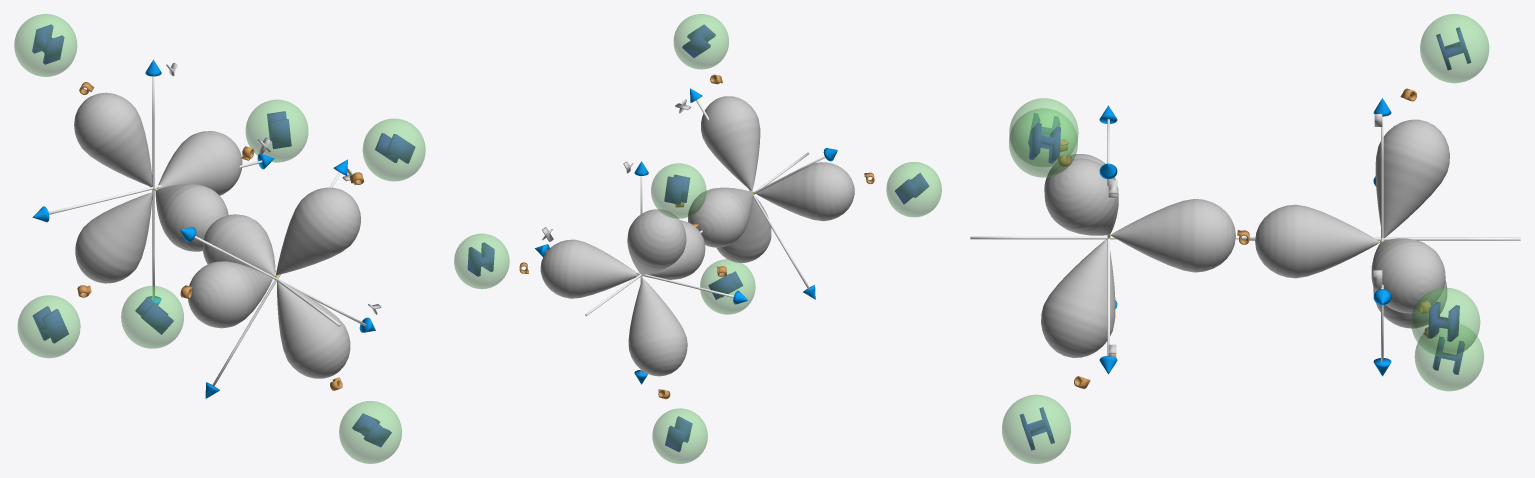
Rendered from ethane.glb.
The picture shows the model from 3 angles, left to right: view 1: azimuth 30°, elevation 25°; view 2: azimuth 150°, elevation 25°; view 3: azimuth 270°, elevation 25°; orthographic projection. The views are drawn at different scales.
Visible parts, largest first — view 1: sp3_lobe_CH_1, sp3_lobe_CH_6, sp3_lobe_CH_2, sp3_lobe_CH_4, sp3_lobe_CH_5, sp3_lobe_CH_3, sigma_CC_sp3_lobe_C1, H_atom_1, H_atom_5, H_atom_4, H_atom_3, H_atom_2 (+12 smaller); view 2: sp3_lobe_CH_2, sp3_lobe_CH_3, sp3_lobe_CH_6, sp3_lobe_CH_5, sp3_lobe_CH_1, sigma_CC_sp3_lobe_C2, H_atom_3, H_atom_1, H_atom_4, H_atom_5, H_atom_6, H_atom_2 (+8 smaller); view 3: sigma_CC_sp3_lobe_C1, sigma_CC_sp3_lobe_C2, sp3_lobe_CH_4, sp3_lobe_CH_1, sp3_lobe_CH_6, sp3_lobe_CH_3, H_atom_6, H_atom_5, H_atom_1, H_atom_2, H_atom_4, H_atom_3 (+7 smaller).
Boxes of the visible parts, box(x1,y1,x2,y2) form: sp3_lobe_CH_1: box(74, 92, 152, 186); sp3_lobe_CH_6: box(276, 187, 360, 275); sp3_lobe_CH_2: box(75, 192, 152, 283); sp3_lobe_CH_4: box(277, 281, 350, 378); sp3_lobe_CH_5: box(188, 261, 272, 328); sp3_lobe_CH_3: box(157, 131, 242, 195); sigma_CC_sp3_lobe_C1: box(155, 184, 228, 251); H_atom_1: box(362, 118, 425, 181); H_atom_5: box(14, 14, 77, 76); H_atom_4: box(17, 295, 80, 358); H_atom_3: box(121, 286, 183, 348); H_atom_2: box(339, 401, 401, 463); sp3_lobe_CH_2: box(628, 278, 687, 376); sp3_lobe_CH_3: box(540, 239, 638, 298); sp3_lobe_CH_6: box(701, 96, 760, 191); sp3_lobe_CH_5: box(756, 162, 854, 221); sp3_lobe_CH_1: box(627, 209, 686, 274); sigma_CC_sp3_lobe_C2: box(688, 187, 752, 247); H_atom_3: box(886, 162, 941, 217); H_atom_1: box(673, 14, 728, 69); H_atom_4: box(652, 408, 707, 463); H_atom_5: box(651, 163, 706, 218); H_atom_6: box(454, 233, 509, 289); H_atom_2: box(700, 259, 755, 314); sigma_CC_sp3_lobe_C1: box(1255, 204, 1380, 278); sigma_CC_sp3_lobe_C2: box(1111, 199, 1235, 272); sp3_lobe_CH_4: box(1041, 239, 1115, 357); sp3_lobe_CH_1: box(1375, 119, 1449, 237); sp3_lobe_CH_6: box(1044, 158, 1118, 235); sp3_lobe_CH_3: box(1371, 238, 1445, 313); H_atom_6: box(1411, 287, 1480, 356); H_atom_5: box(1420, 14, 1489, 83); H_atom_1: box(1009, 108, 1077, 177); H_atom_2: box(1002, 394, 1070, 463); H_atom_4: box(1414, 324, 1483, 391); H_atom_3: box(1009, 98, 1078, 166).
Bounding box in the file's own units: 1.88 × 1.68 × 2.26.
